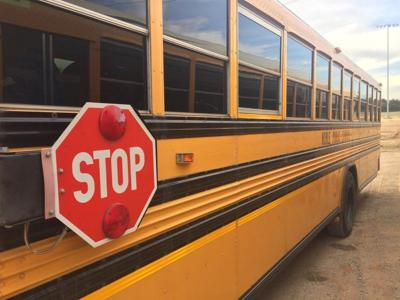stopsign: (53, 105, 155, 248)
